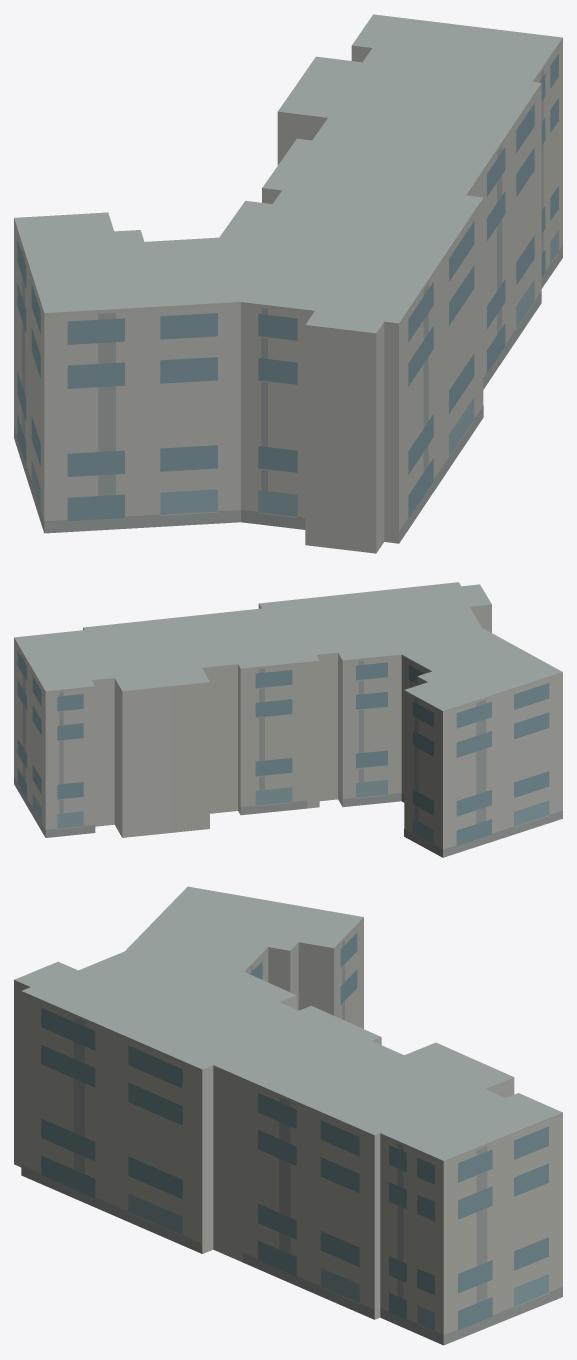
Rendered from residential-8dd1e2d7-03d0-44d4-9dee-ddc551592f2c.glb.
3 views of the same model, one above another, from view 1: azimuth 30°, elevation 25°; view 2: azimuth 150°, elevation 25°; view 3: azimuth 270°, elevation 25° (orthographic). The views are drawn at different scales.
Parts seen in each view (by area): view 1: residential-8dd1e2d7-03d0-44d4-9dee-ddc551592f2c.tmp; view 2: residential-8dd1e2d7-03d0-44d4-9dee-ddc551592f2c.tmp; view 3: residential-8dd1e2d7-03d0-44d4-9dee-ddc551592f2c.tmp.
Part boxes in pixels (x1,y1,x2,y2): residential-8dd1e2d7-03d0-44d4-9dee-ddc551592f2c.tmp: (14, 14, 562, 553); residential-8dd1e2d7-03d0-44d4-9dee-ddc551592f2c.tmp: (14, 582, 562, 857); residential-8dd1e2d7-03d0-44d4-9dee-ddc551592f2c.tmp: (14, 886, 562, 1345).
Bounding box in the file's own units: 48.65 × 15.25 × 41.11.
